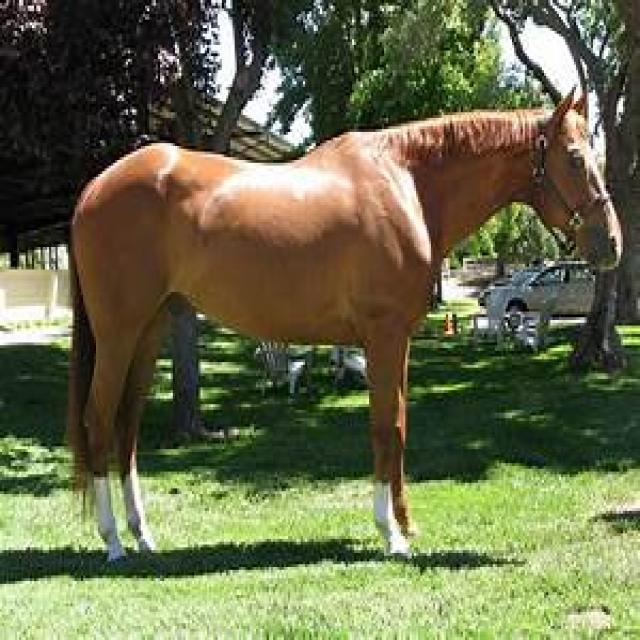animal: (42, 42, 640, 561)
